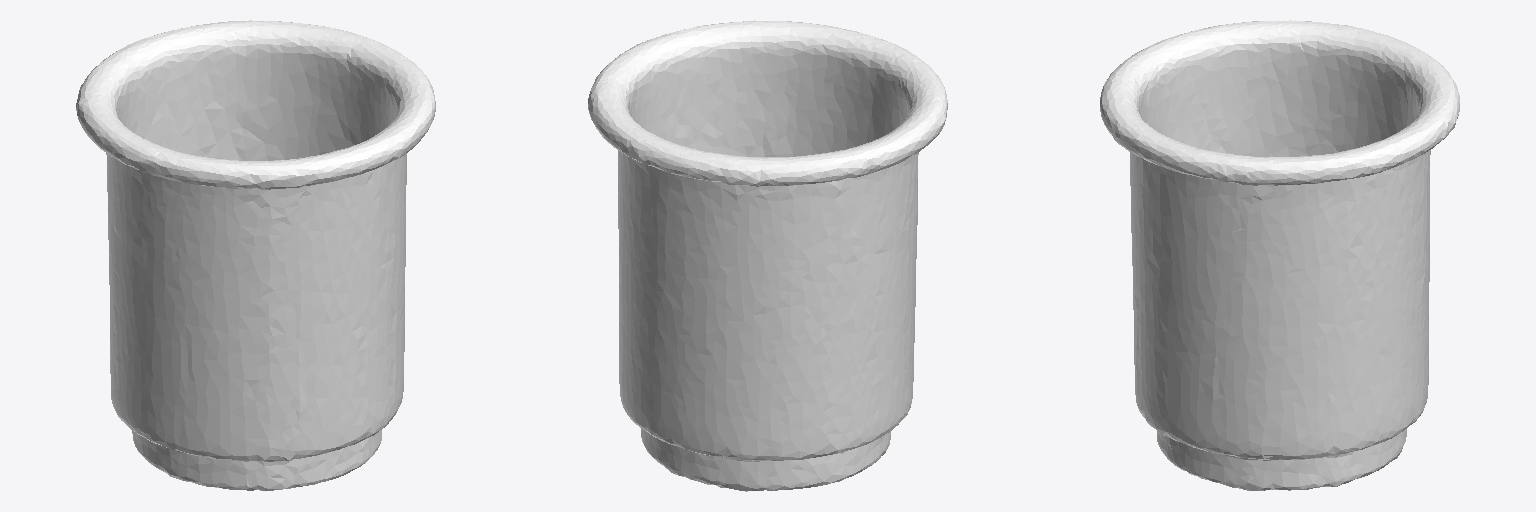
robot.urdf — a_cups:
<robot name="a_cups">
    <link name="base_link">
        <visual>
            <origin xyz="-0.0 0.0 0.0" rpy="0.0 0.0 0.0" />
            <geometry>
                <mesh filename="a_cups/textured.obj" scale="1 1 1" />
            </geometry>
            <material name="texture">
                <color rgba="1.0 1.0 1.0 1.0" />
            </material>
        </visual>
        <collision>
            <origin xyz="-0.0 0.0 0.0" rpy="0.0 0.0 0.0" />
            <geometry>
                <mesh filename="a_cups/textured_coacd_0.stl" scale="1 1 1" />
            </geometry>
        </collision>
        <collision>
            <origin xyz="-0.0 0.0 0.0" rpy="0.0 0.0 0.0" />
            <geometry>
                <mesh filename="a_cups/textured_coacd_1.stl" scale="1 1 1" />
            </geometry>
        </collision>
        <collision>
            <origin xyz="-0.0 0.0 0.0" rpy="0.0 0.0 0.0" />
            <geometry>
                <mesh filename="a_cups/textured_coacd_2.stl" scale="1 1 1" />
            </geometry>
        </collision>
        <collision>
            <origin xyz="-0.0 0.0 0.0" rpy="0.0 0.0 0.0" />
            <geometry>
                <mesh filename="a_cups/textured_coacd_3.stl" scale="1 1 1" />
            </geometry>
        </collision>
        <collision>
            <origin xyz="-0.0 0.0 0.0" rpy="0.0 0.0 0.0" />
            <geometry>
                <mesh filename="a_cups/textured_coacd_4.stl" scale="1 1 1" />
            </geometry>
        </collision>
        <inertial>
            <mass value="0.013" />
            <inertia ixx="1e-3" ixy="0.0" ixz="0.0" iyy="1e-3" iyz="0.0" izz="1e-3" />
        </inertial>
    </link>
</robot>

--- Render facts (derived) ---
The picture shows the robot from 3 angles, left to right: view 1: azimuth 30°, elevation 25°; view 2: azimuth 150°, elevation 25°; view 3: azimuth 270°, elevation 25°; orthographic projection.
Robot: a_cups — 1 links, 0 joints (none); root link base_link; default pose: every joint at zero.
Visible links, largest first — view 1: base_link; view 2: base_link; view 3: base_link.
Boxes of the visible links, bbox=[...] form: base_link: bbox=[76, 20, 435, 490]; base_link: bbox=[588, 20, 947, 491]; base_link: bbox=[1100, 20, 1459, 490].
Bounding box of the posed robot: 0.057 × 0.0571 × 0.0614 m (x, y, z).
Meshes: 1 distinct files referenced, 1 mesh visuals loaded (1 OBJ).